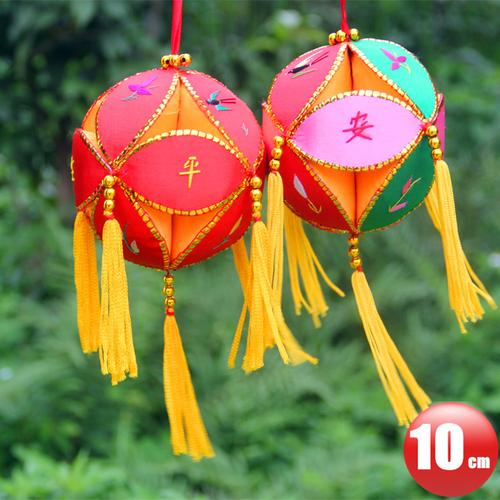xiuqiu: (71, 66, 267, 271), (260, 38, 445, 234)
